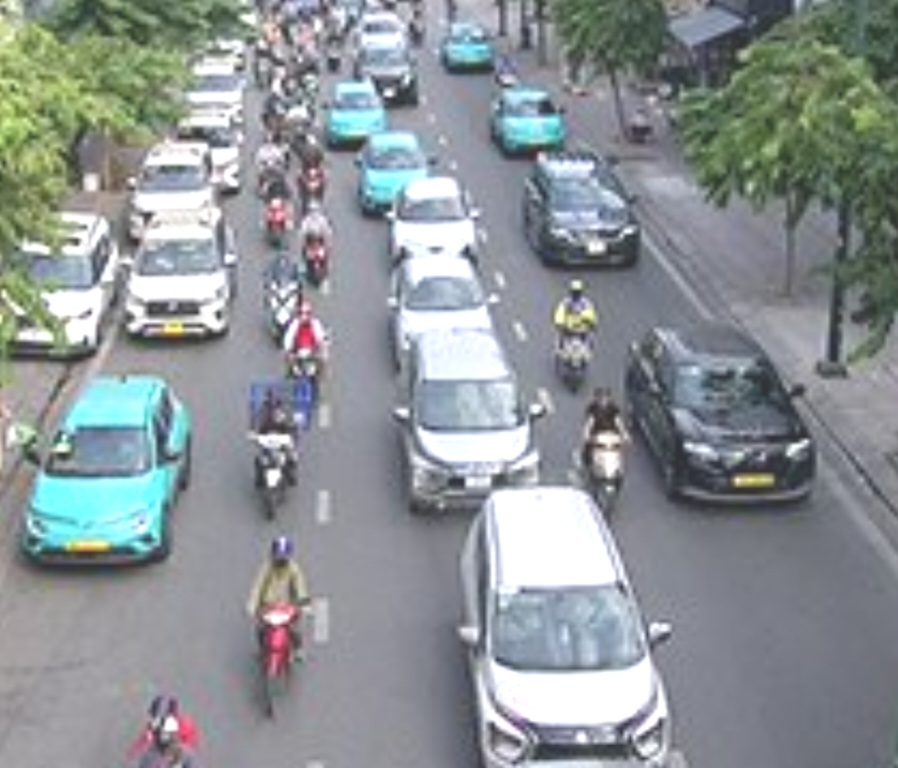car: (450, 500, 683, 764), (621, 325, 823, 506), (28, 380, 190, 565), (404, 341, 552, 507), (124, 210, 239, 341), (526, 149, 637, 271), (389, 258, 498, 339), (392, 183, 484, 261), (135, 140, 214, 220), (356, 132, 429, 207), (496, 88, 564, 154), (325, 83, 386, 144), (355, 48, 418, 104), (181, 63, 249, 111), (437, 17, 494, 71), (352, 12, 405, 50)
